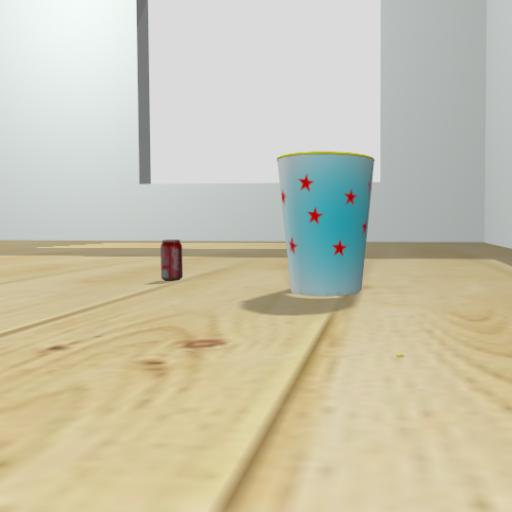COCA: (130, 210, 207, 328)
Trash: (249, 110, 407, 336)
